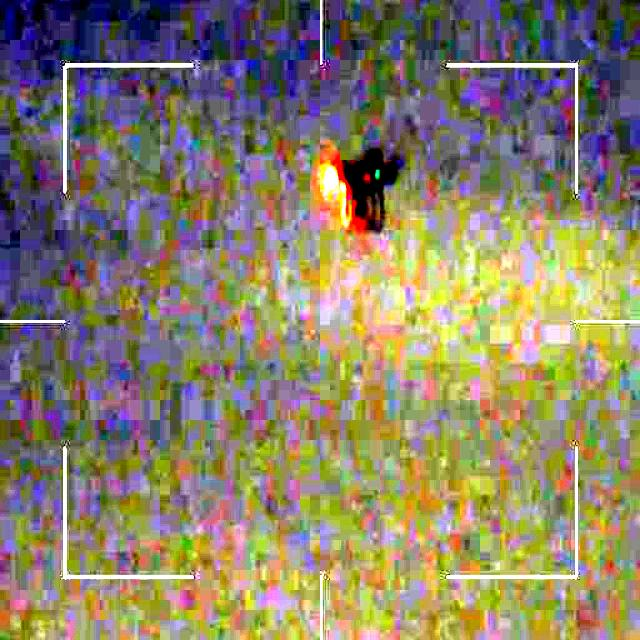bird: (314, 141, 405, 235)
